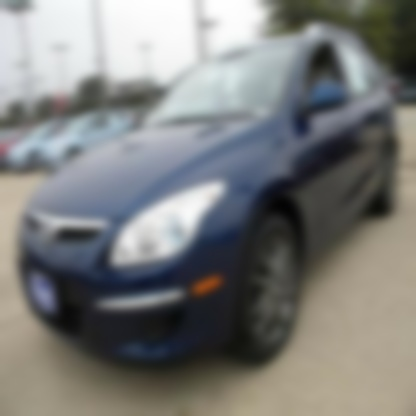Vehicle: (15, 25, 400, 366)
